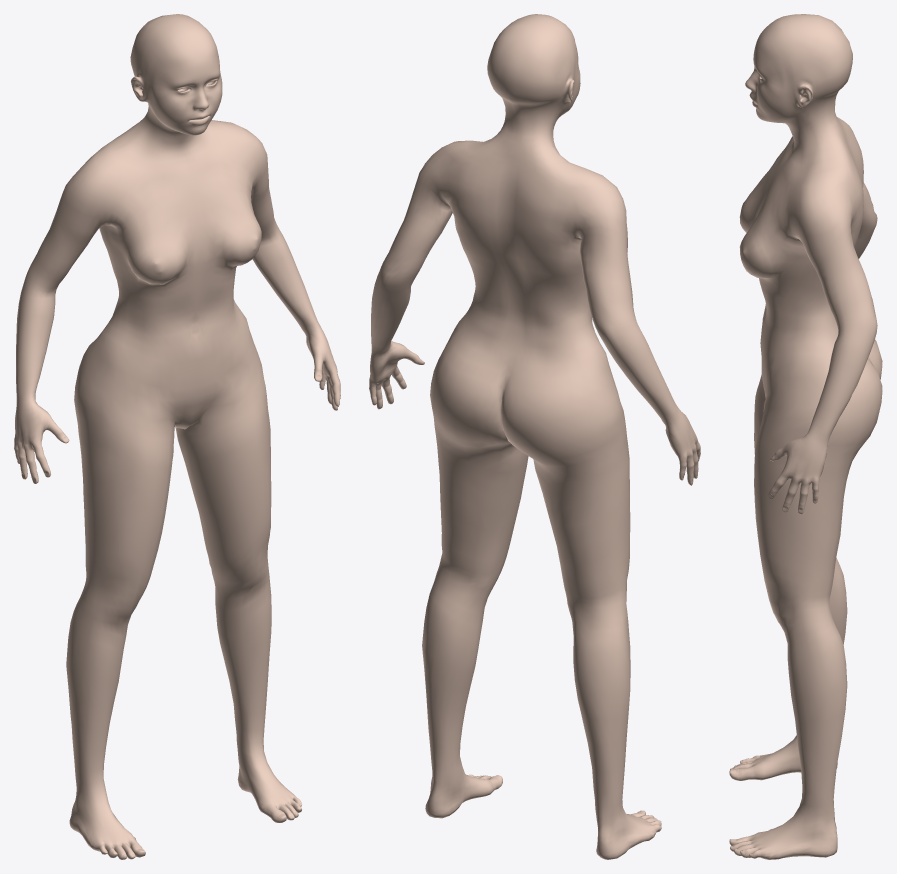
Rendered from uniqo-body.glb.
3 renders of one model, left to right at view 1: azimuth 30°, elevation 25°; view 2: azimuth 150°, elevation 25°; view 3: azimuth 270°, elevation 25°, orthographic.
Parts seen in each view (by area): view 1: UniqoBody; view 2: UniqoBody; view 3: UniqoBody.
Boxes of the visible parts, <box> form: UniqoBody: <box>14,14,340,859</box>; UniqoBody: <box>369,14,700,859</box>; UniqoBody: <box>729,14,882,859</box>.
Bounding box in the file's own units: 0.6435 × 1.55 × 0.2706.
